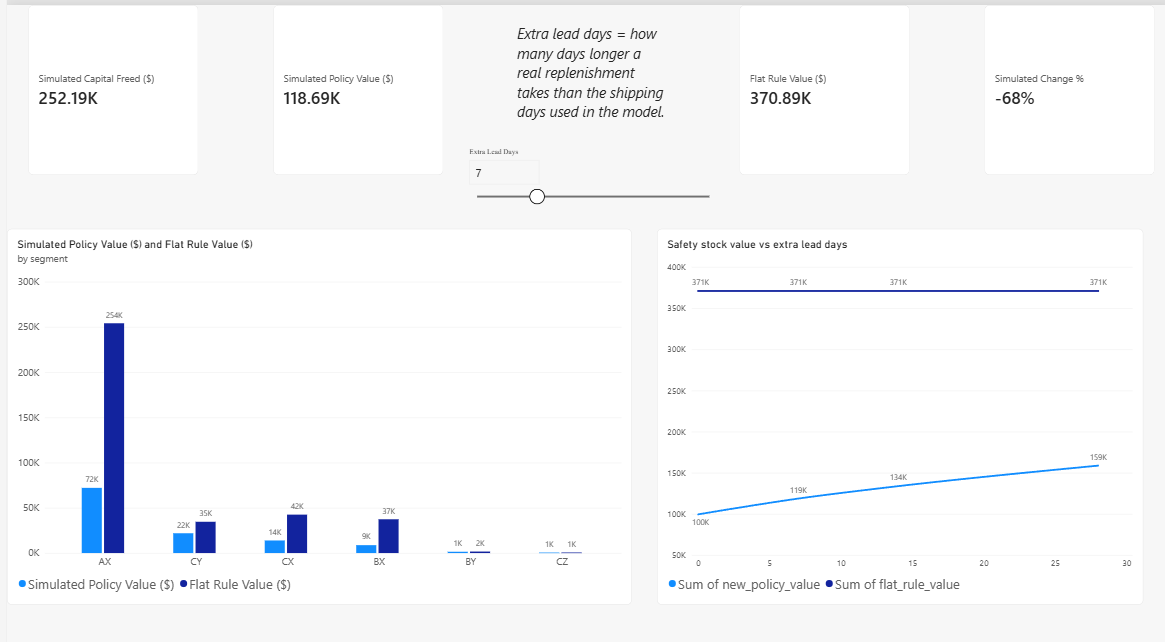

Layout of this report page (visuals, bound fields, positions):
{"tool":"powerbi","page":{"name":"What_if","canvas":[1920,1080],"ordinal":1},"visuals":[{"type":"slicer","fields":{"Values":["Extra Lead Days.Extra Lead Days"]},"box":[753.3,234.6,422,133.8],"z":0},{"type":"cardVisual","fields":{"Data":["policy_by_sku.Simulated Policy Value ($)"]},"box":[437.4,0,280,280],"z":1000},{"type":"cardVisual","fields":{"Data":["policy_by_sku.Simulated Change %"]},"box":[1609.6,0,280,280],"z":2000},{"type":"cardVisual","fields":{"Data":["policy_by_sku.Simulated Capital Freed ($)"]},"box":[35,0,280,280],"z":3000},{"type":"cardVisual","fields":{"Data":["policy_by_sku.Flat Rule Value ($)"]},"box":[1207.2,0,280,280],"z":4000},{"type":"clusteredColumnChart","fields":{"Category":["policy_by_sku.segment"],"Y":["policy_by_sku.Simulated Policy Value ($)","policy_by_sku.Flat Rule Value ($)"]},"box":[0,368.4,1029.2,619.6],"z":5000},{"type":"lineChart","title":"Safety stock value vs extra lead days","fields":{"Category":["lead_time_sensitivity.extra_lead_days"],"Y":["Sum(lead_time_sensitivity.new_policy_value)","Sum(lead_time_sensitivity.flat_rule_value)"]},"box":[1070.3,368.4,800.7,619.6],"z":6000},{"type":"textbox","box":[839.8,30.9,244.9,216.1],"z":7000}]}

Visuals, with their boxes in screenshot pixels (x1, y1, x2, y2), scaled from the page's 1920x1080 canvas onto the 1165x642 screenshot:
slicer - Extra Lead Days.Extra Lead Days: [457,139,713,219]
cardVisual - policy_by_sku.Simulated Policy Value ($): [265,0,435,166]
cardVisual - policy_by_sku.Simulated Change %: [977,0,1147,166]
cardVisual - policy_by_sku.Simulated Capital Freed ($): [21,0,191,166]
cardVisual - policy_by_sku.Flat Rule Value ($): [732,0,902,166]
clusteredColumnChart - policy_by_sku.segment x policy_by_sku.Simulated Policy Value ($): [0,219,624,587]
"Safety stock value vs extra lead days" lineChart: [649,219,1135,587]
textbox: [510,18,658,147]
